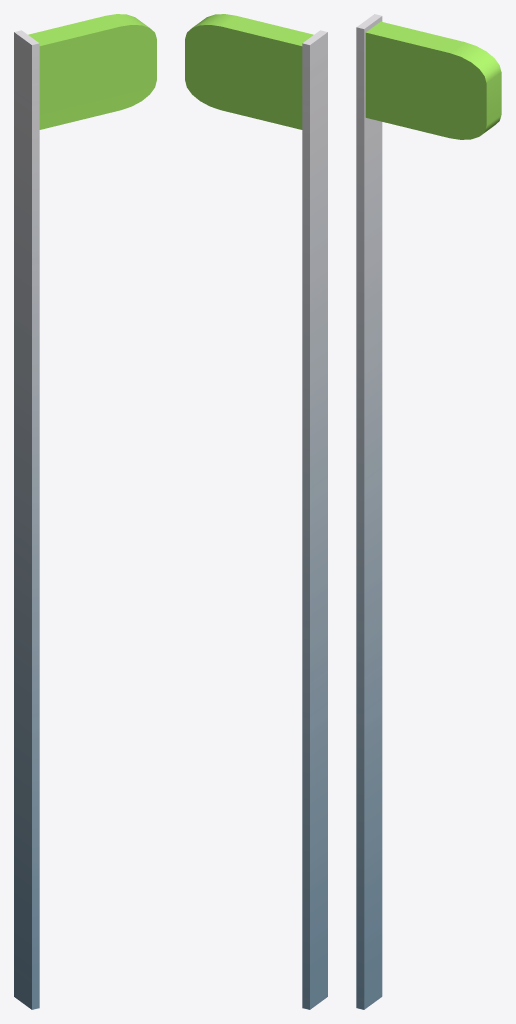
File: Obstacle_3.fbx
3 renders of one model, left to right at view 1: azimuth 30°, elevation 25°; view 2: azimuth 150°, elevation 25°; view 3: azimuth 330°, elevation 25°, orthographic.
Visible parts, largest first — view 1: Obstacle_3; view 2: Obstacle_3; view 3: Obstacle_3.
Boxes of the visible parts, bbox=[...] form: Obstacle_3: bbox=[14, 14, 156, 1009]; Obstacle_3: bbox=[185, 14, 327, 1009]; Obstacle_3: bbox=[356, 14, 501, 1009].
Bounding box in the file's own units: 518 × 3778 × 127.
